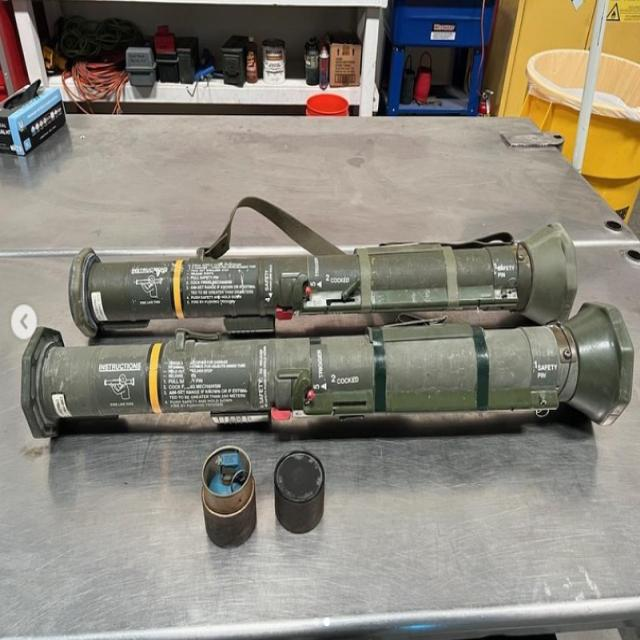bazooka: (11, 280, 640, 487), (59, 212, 603, 327)
